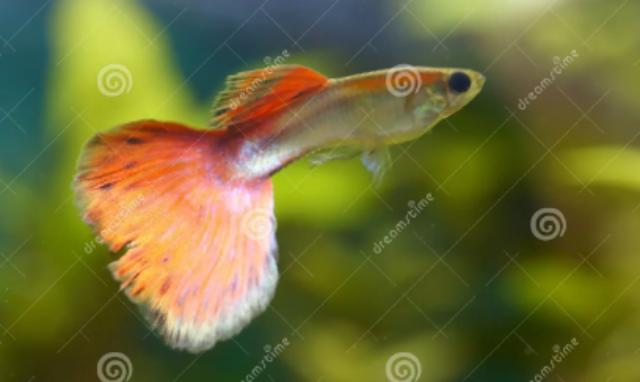Mulut: (465, 63, 509, 103)
Sirip Anal: (290, 130, 368, 176)
Sirip Ekor: (66, 113, 284, 363)
Sirip Perut: (356, 130, 396, 194)
Sirip Punggung: (198, 59, 330, 135)
